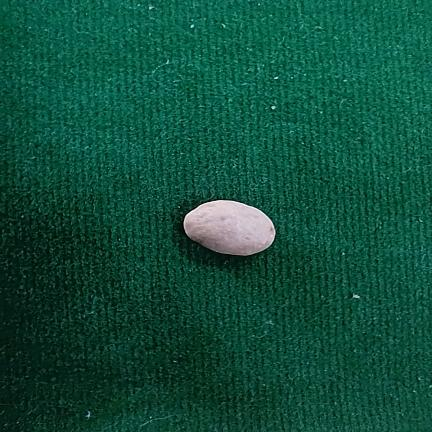immature: (183, 200, 275, 256)
